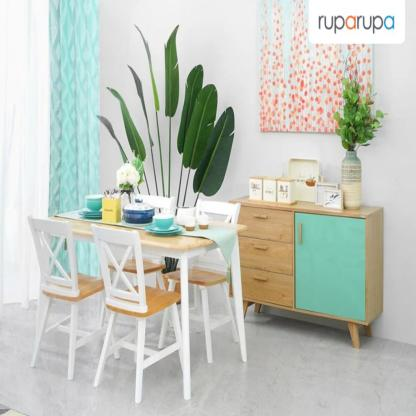Dining Table: (16, 182, 266, 406)
